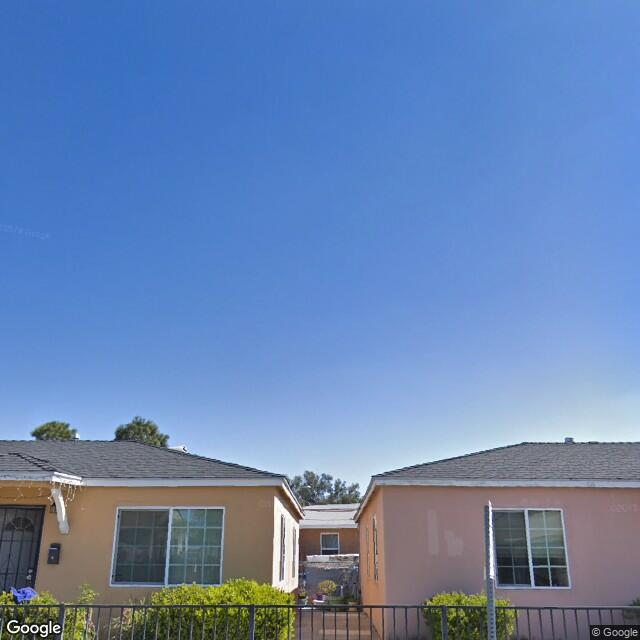window: (488, 503, 572, 593), (113, 499, 173, 589), (168, 502, 223, 591)
